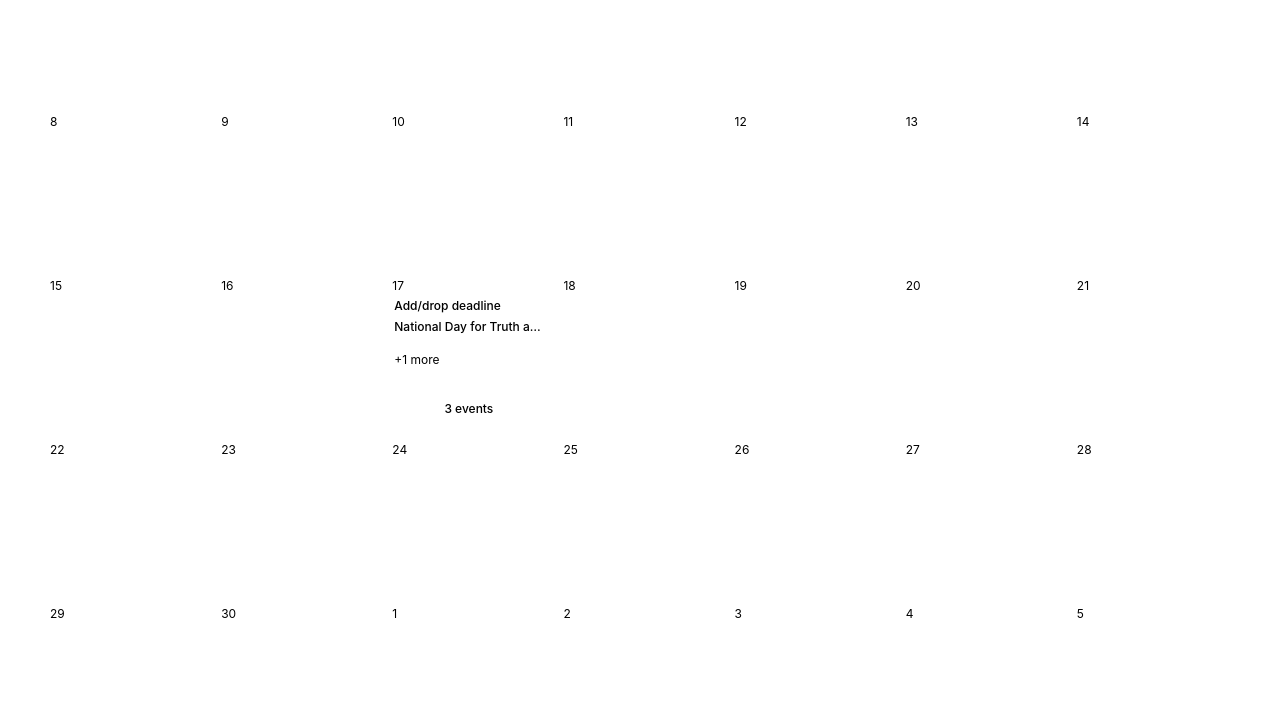
Test: 20.13 + Property 27b — multi-event-day popover enumerates each event by row with labels and source links (REQ-16.3, REQ-16.4) › opens all three events from the desktop overflow control and selects the hidden event
(page scrolled)
Expected: the button "Add/drop deadline" is shown, left=390, top=296, right=547, bottom=315
Step 1. Click the button with aria-label "Open all 3 events on Tuesday, September 17, 2024" → (469, 360), box left=390, top=338, right=547, bottom=382
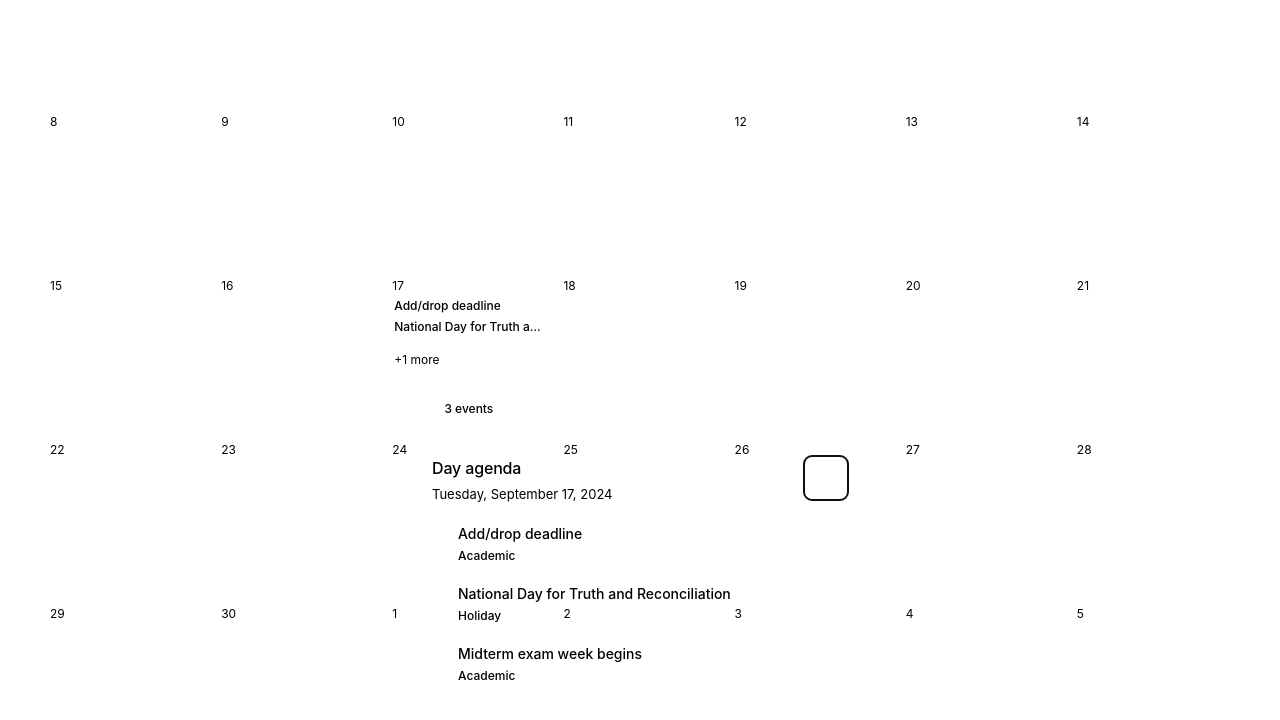
Expected: the text "Add/drop deadline" is shown, left=458, top=524, right=582, bottom=544
Expected: the text "National Day for Truth and Reconciliation" is shown, left=458, top=584, right=731, bottom=604
Expected: the text "Midterm exam week begins" is shown
Step 2. Click the text "Midterm exam week begins" → (550, 654), box left=458, top=644, right=642, bottom=664
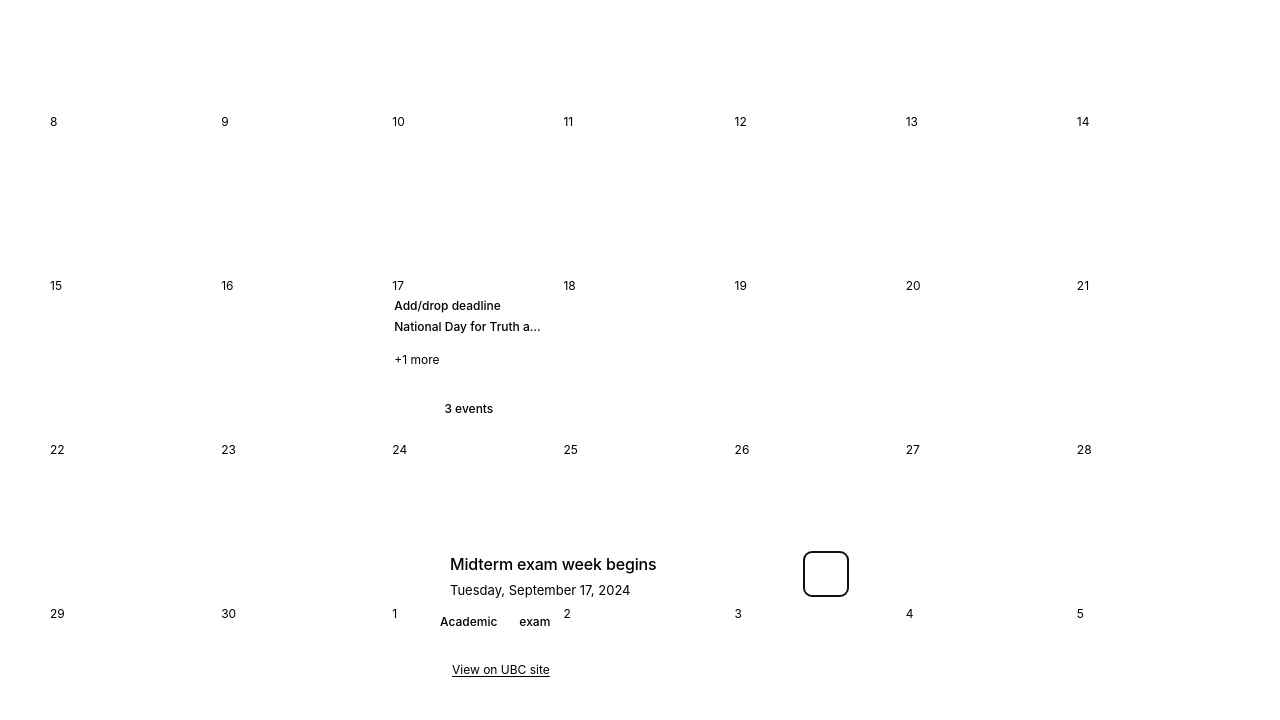
Expected: the dialog "Midterm exam week begins" shows "View on UBC site", left=432, top=648, right=554, bottom=692
